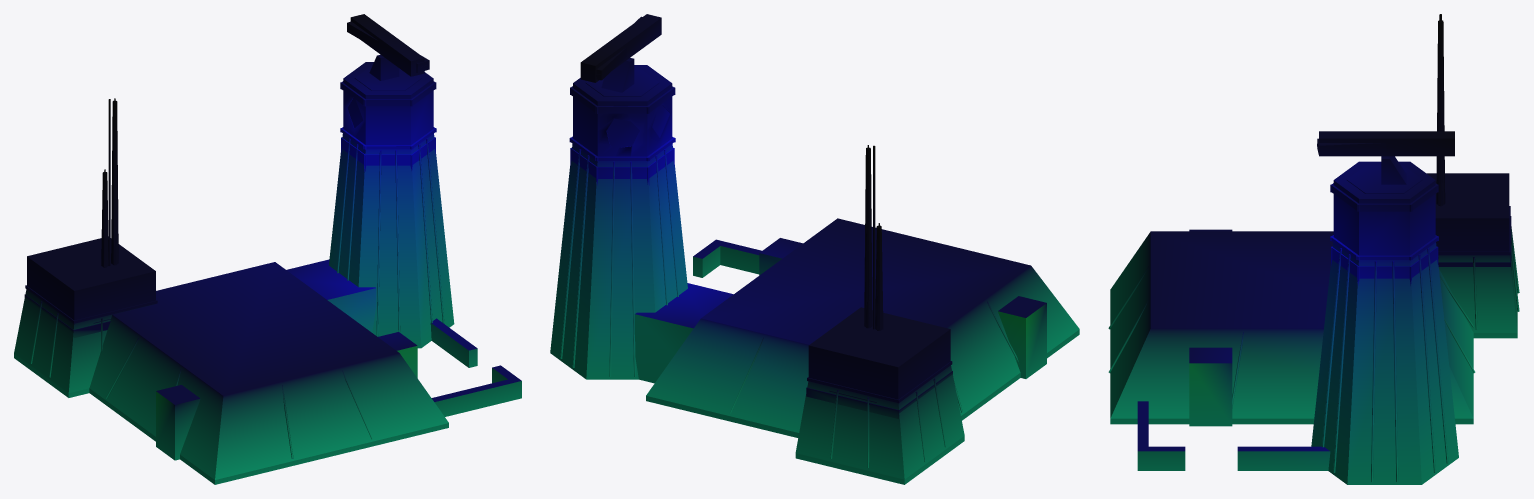
File: bturretcontrol_damaged.glb
3 renders of one model, left to right at view 1: azimuth 30°, elevation 25°; view 2: azimuth 150°, elevation 25°; view 3: azimuth 270°, elevation 25°, orthographic. The views are drawn at different scales.
Visible parts, largest first — view 1: lod0_bturretcontrol, lod1_bturretcontrol; view 2: lod0_bturretcontrol, lod1_bturretcontrol; view 3: lod0_bturretcontrol.
Part boxes in pixels (box(x1,y1,x2,y2)): lod0_bturretcontrol: box(14, 14, 521, 484); lod1_bturretcontrol: box(110, 81, 365, 265); lod0_bturretcontrol: box(550, 14, 1079, 484); lod1_bturretcontrol: box(598, 85, 873, 328); lod0_bturretcontrol: box(1108, 14, 1519, 484).
Size of the model in its own units: 25.41 by 18.84 by 21.75.
